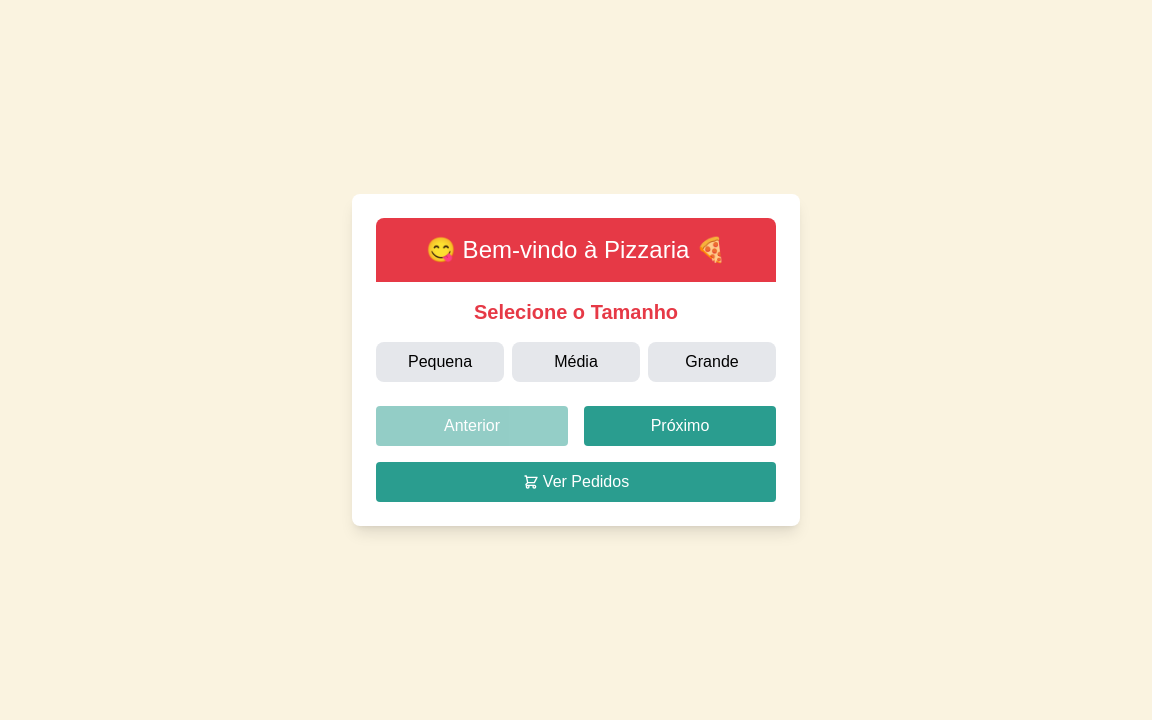
Order Component › must open the modal when clicking on 'View Orders' if there are orders
Click the button "Ver Pedidos" at (576, 482), box [376, 462, 776, 502]
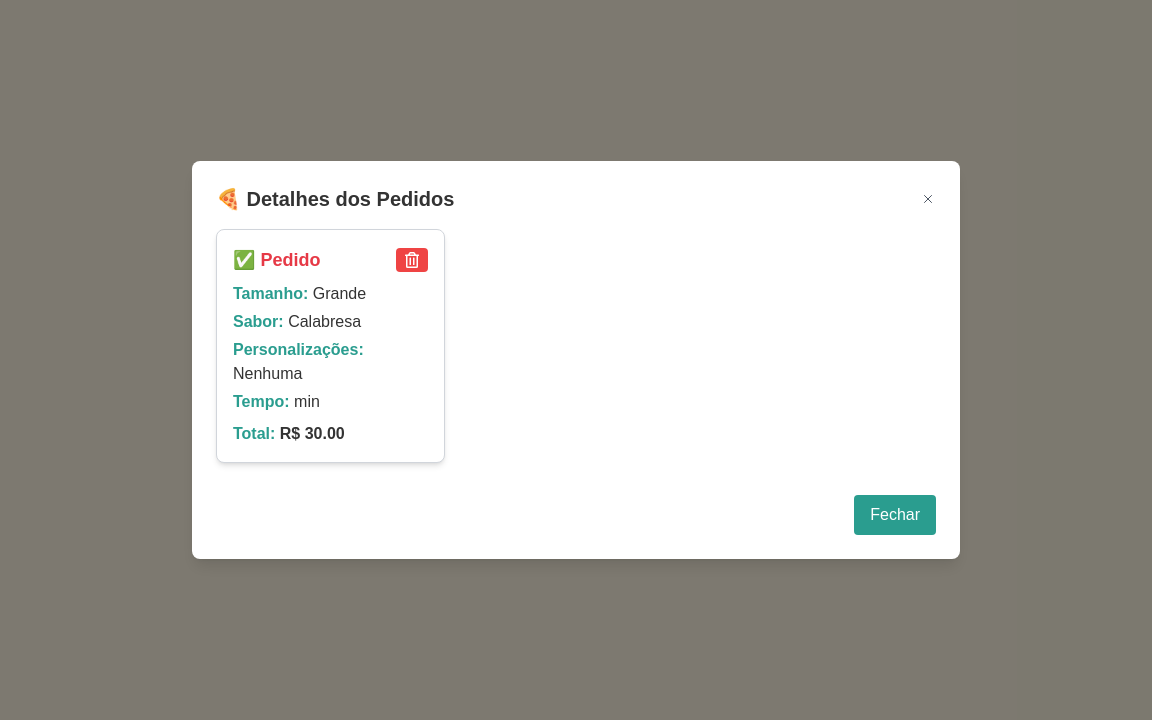
expect the heading "🍕 Detalhes dos Pedidos" is shown: met, box [216, 185, 454, 213]
